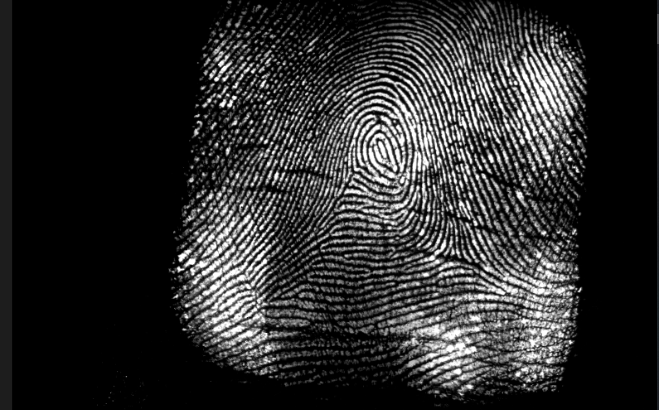nucelo: (367, 129, 398, 170)
verticilo: (436, 229, 466, 267), (251, 287, 276, 309)
